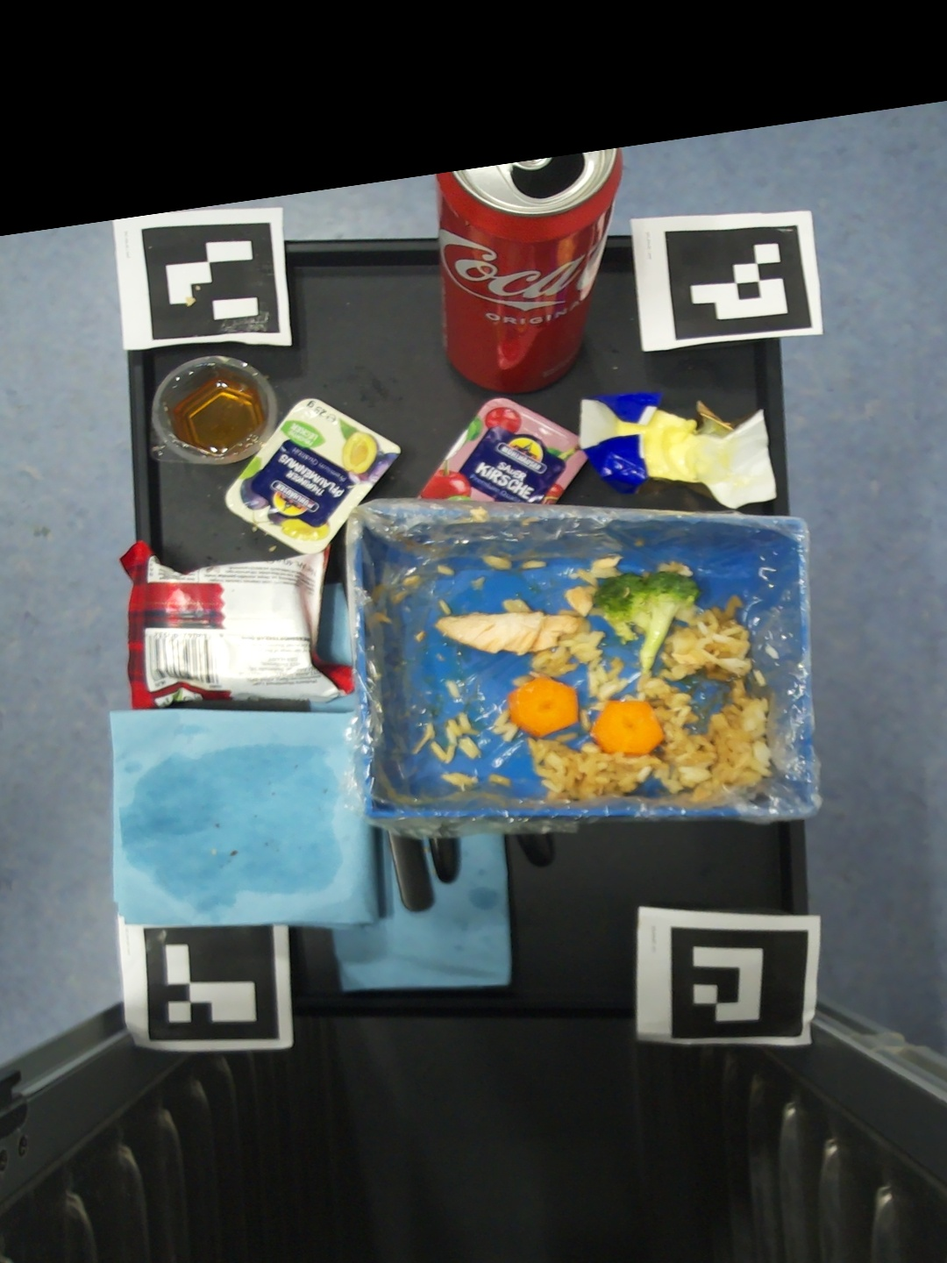broccoli: (593, 571, 701, 673)
butter: (579, 392, 776, 509)
carrots: (508, 677, 579, 738), (593, 701, 665, 755)
cherry_jam: (416, 398, 588, 504)
cola_can: (436, 148, 622, 392)
cookie: (119, 540, 354, 709)
fish_salmon: (436, 611, 577, 655), (565, 587, 597, 618), (416, 632, 425, 643)
honey: (151, 355, 278, 464)
plum_jam: (225, 398, 401, 553)
rice: (527, 595, 773, 802), (512, 610, 628, 712), (430, 714, 482, 763), (569, 555, 623, 587), (492, 709, 519, 742), (412, 723, 435, 754), (442, 772, 479, 791), (657, 561, 694, 577), (504, 599, 532, 613), (483, 556, 512, 569), (579, 709, 591, 732), (490, 774, 510, 787), (392, 591, 411, 604), (628, 621, 645, 635), (470, 507, 489, 519), (522, 560, 547, 569), (753, 670, 766, 687), (446, 681, 459, 697), (375, 612, 392, 624), (765, 645, 779, 659), (403, 576, 420, 586), (472, 576, 485, 589), (439, 600, 451, 614), (438, 565, 454, 575), (589, 607, 603, 616), (641, 572, 650, 578)
